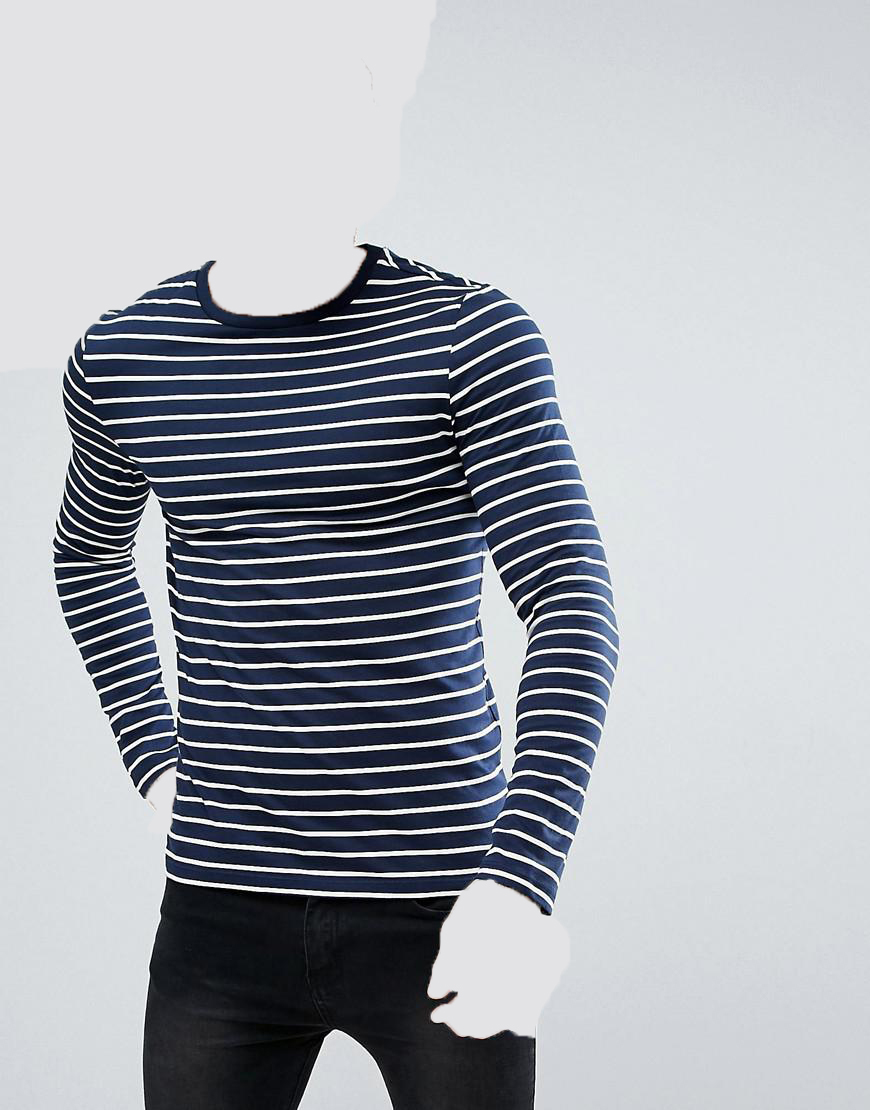teeshirt: (46, 249, 629, 913)
